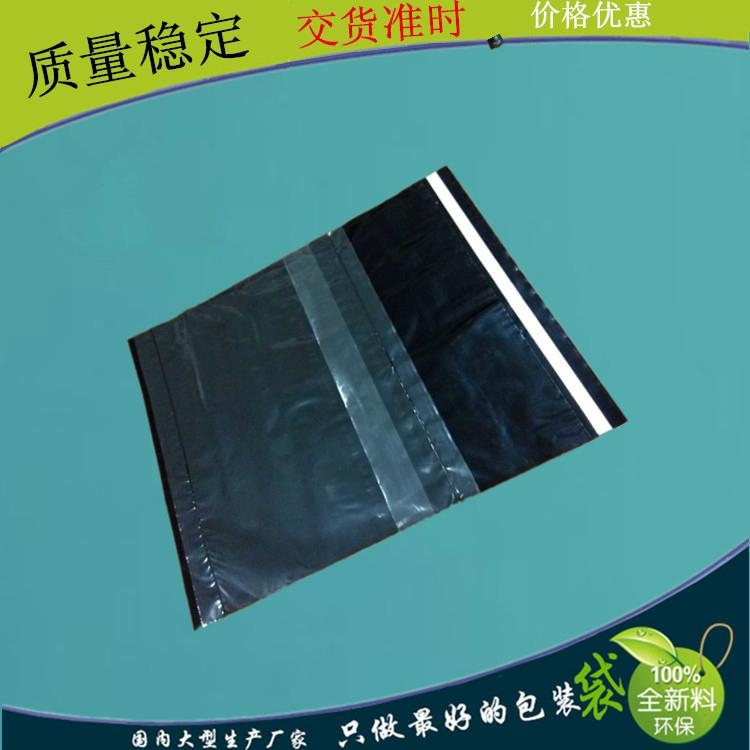塑料袋: (129, 168, 624, 627)
